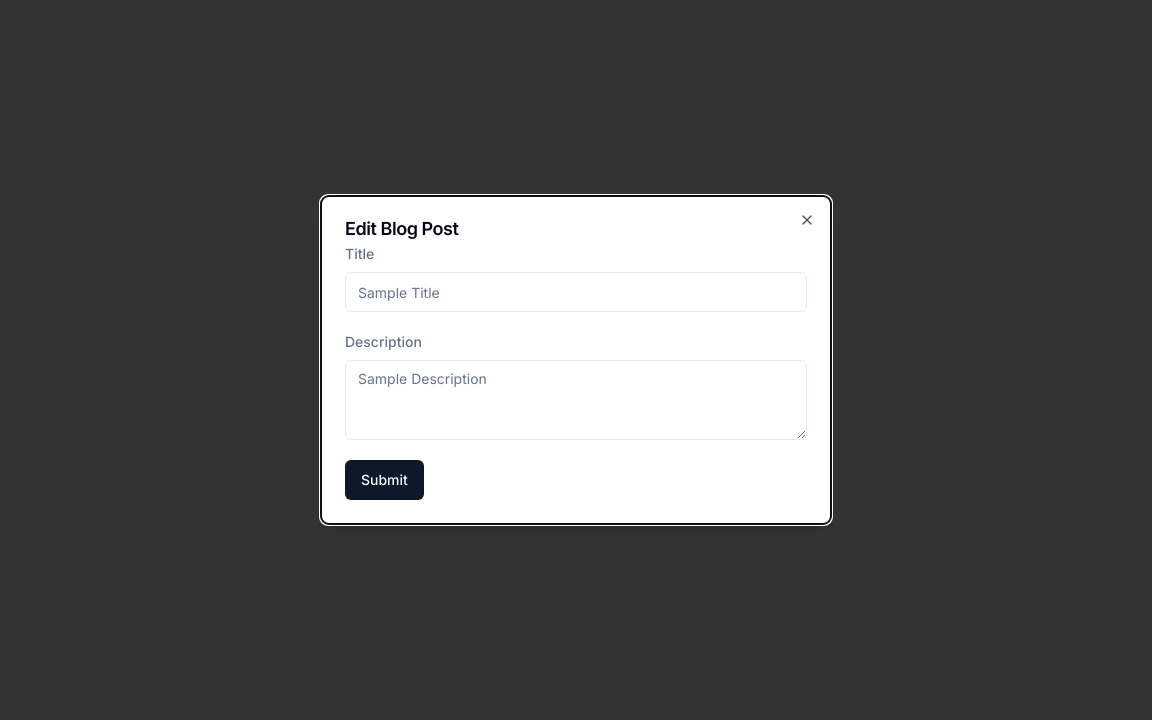
Test case: EditPost › should reset error messages on input change
This screenshot has width=1152, height=720.
Step 1. Replace the text in the field labelled "Title" with "New Title" → [576, 292], box [345,272,807,312]
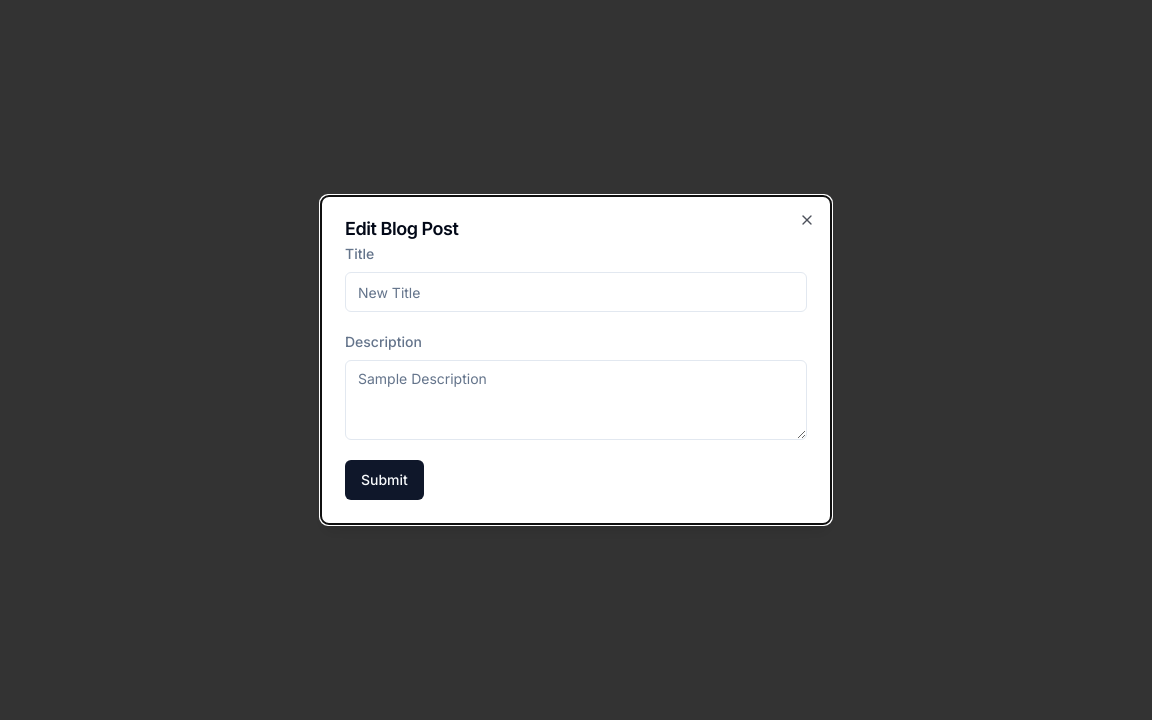
Step 2. Replace the text in the text box labelled "Description" with "New Description" → [576, 400], box [345,360,807,440]
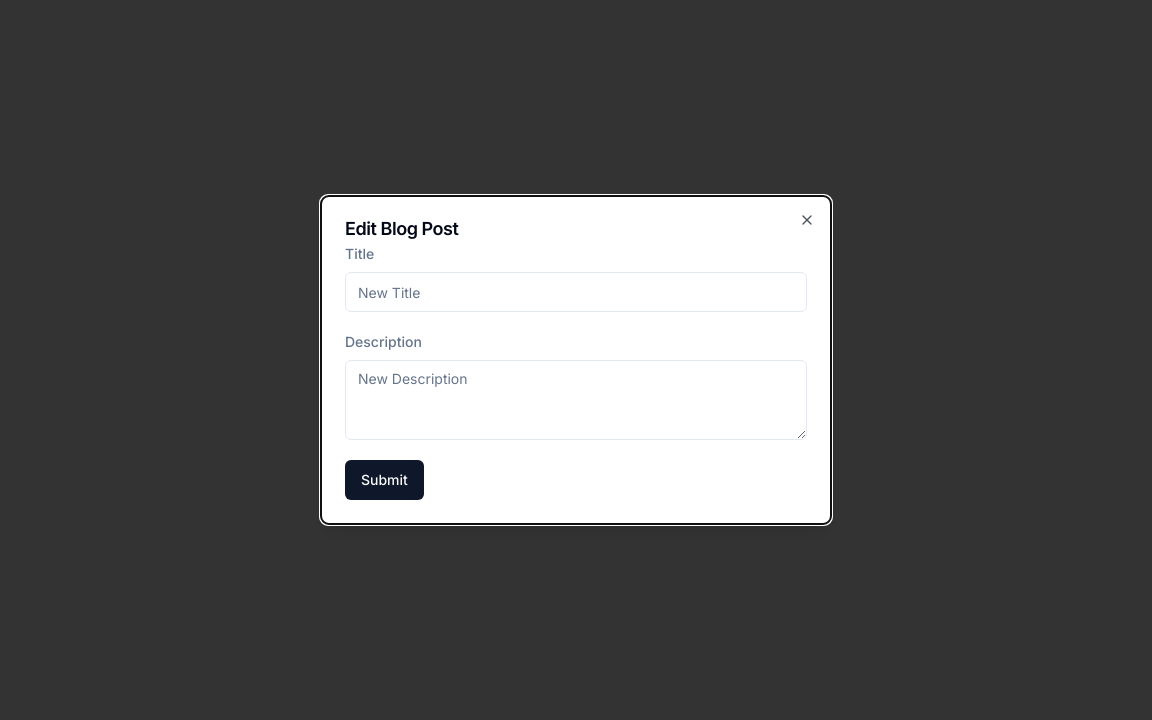
Step 3. Click the button "Submit" → [384, 480], box [345,460,424,500]
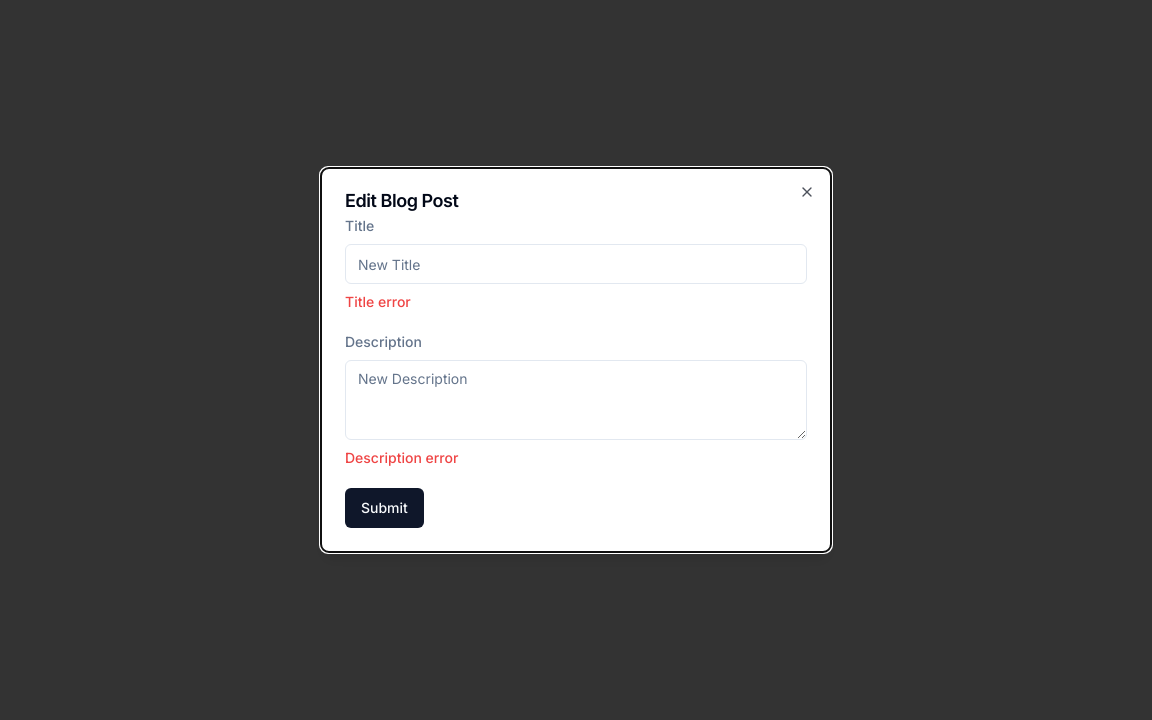
Check: the text "Title error" is shown, box [345,293,411,310]
Check: the text "Description error" is shown, box [345,449,458,466]
Step 4. Replace the text in the field labelled "Title" with "Another Title" → [576, 264], box [345,244,807,284]
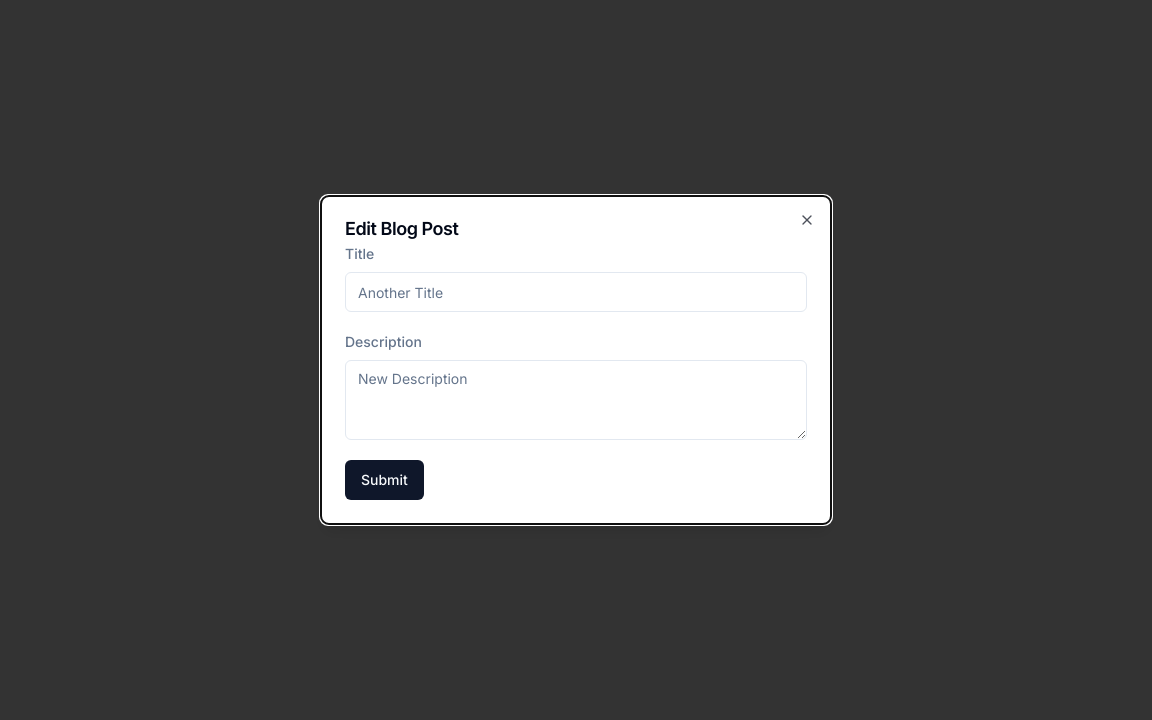
Check: the text "Title error" is gone
Check: the text "Description error" is gone
